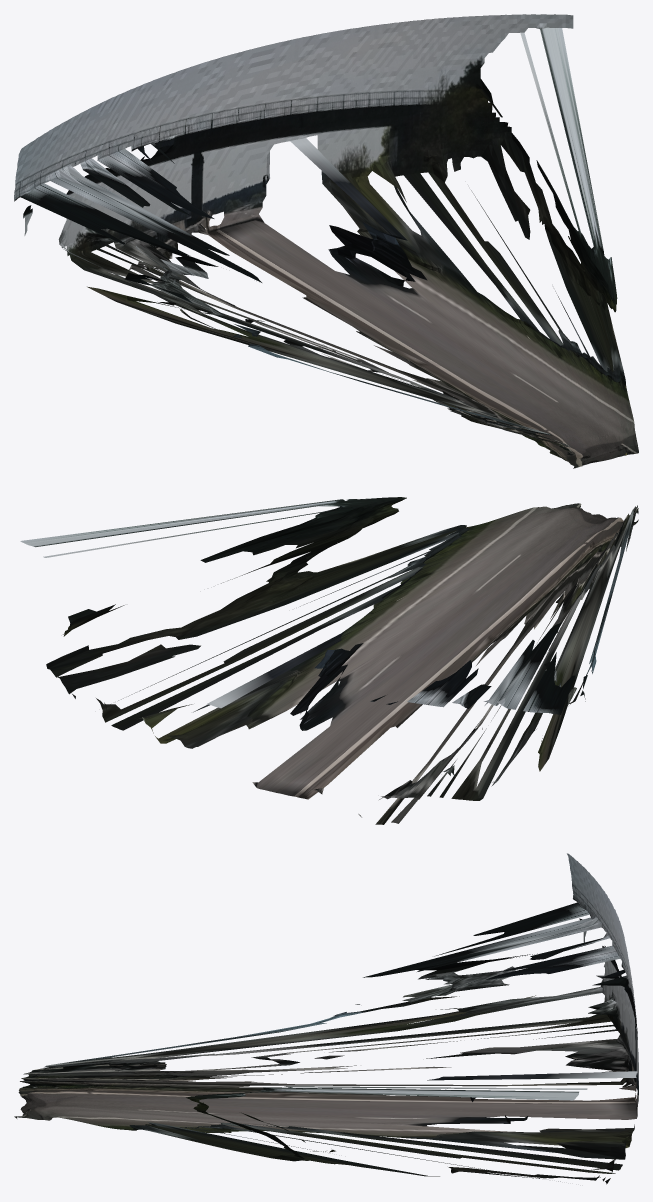
3 views of the same model, one above another, from view 1: azimuth 30°, elevation 25°; view 2: azimuth 150°, elevation 25°; view 3: azimuth 270°, elevation 25° (orthographic). The views are drawn at different scales.
Parts seen in each view (by area): view 1: defaultobject; view 2: defaultobject; view 3: defaultobject.
Part boxes in pixels (bbox=[...]): defaultobject: bbox=[14, 14, 638, 468]; defaultobject: bbox=[20, 497, 638, 824]; defaultobject: bbox=[14, 853, 638, 1184].
Size of the model in its own units: 40.8 by 13.53 by 44.84.
1 material, 1 textured.
